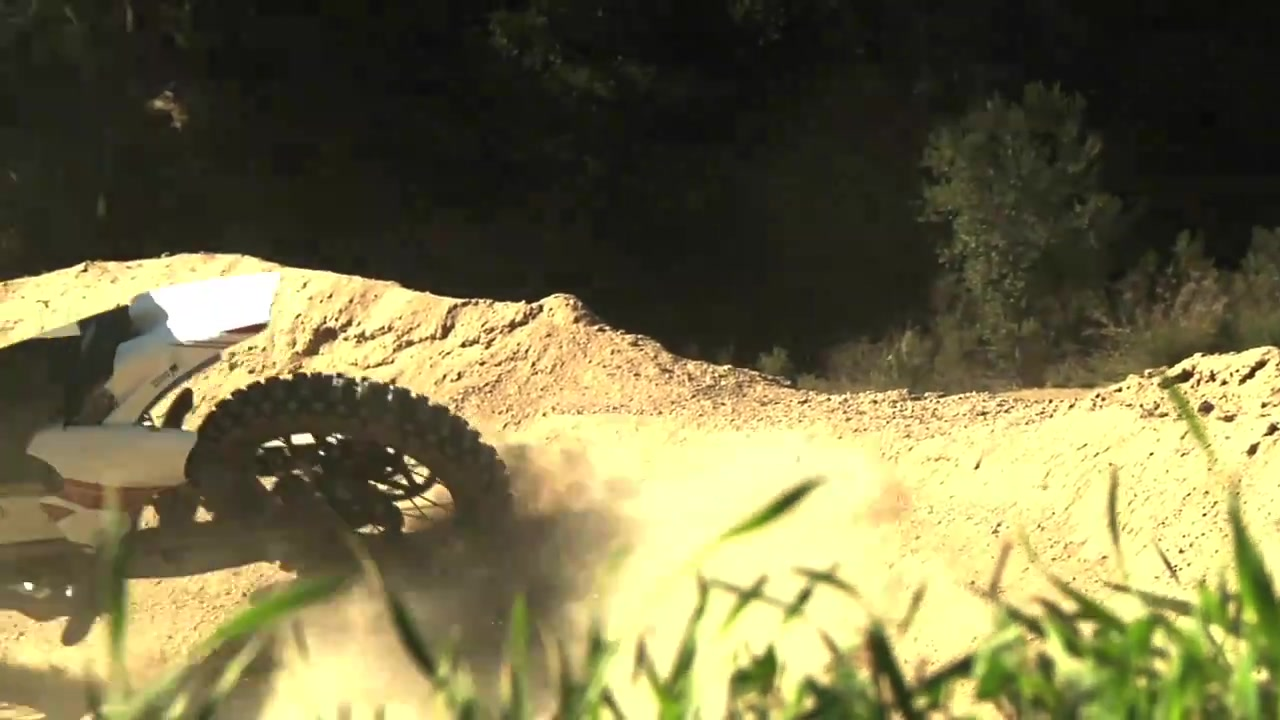motorbike: (4, 269, 516, 600)
